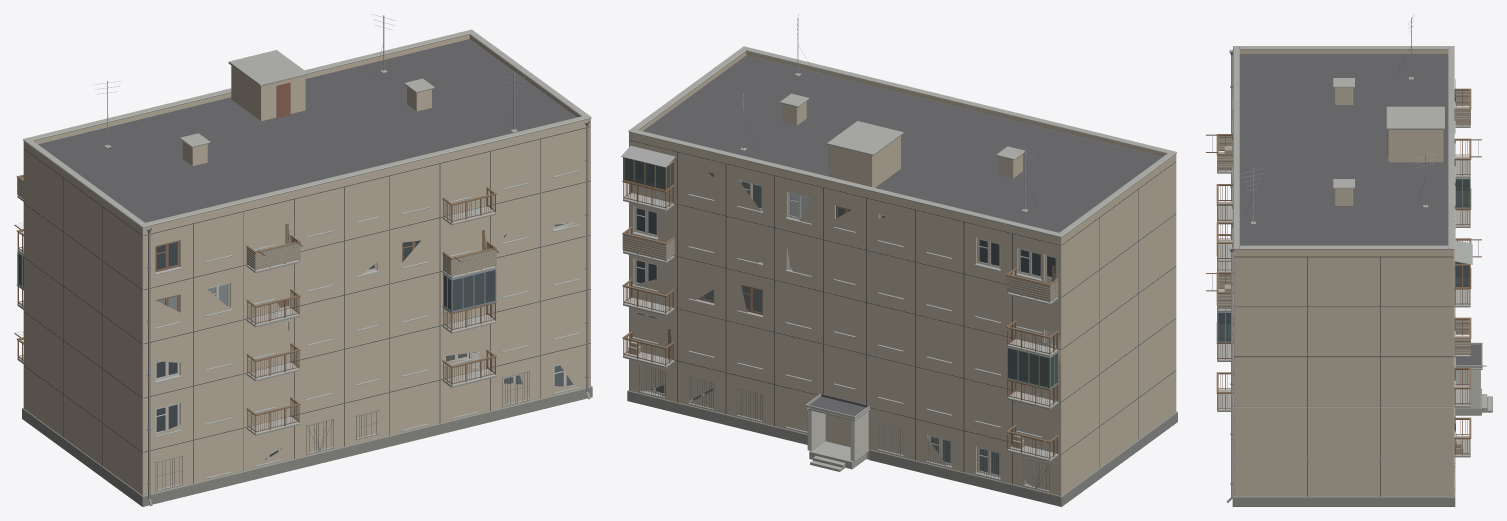
Rendered from Khrushchevka_B (4).fbx.
3 renders of one model, left to right at view 1: azimuth 30°, elevation 25°; view 2: azimuth 150°, elevation 25°; view 3: azimuth 270°, elevation 25°, orthographic. The views are drawn at different scales.
Visible parts, largest first — view 1: Khrushchevka_B_Walls, Khrushchevka_B_Roof, Khrushchevka_B_Balconies, Khrushchevka_B_Windows, Khrushchevka_B_Drainpipes; view 2: Khrushchevka_B_Walls, Khrushchevka_B_Roof, Khrushchevka_B_Balconies, Khrushchevka_B_Windows, Khrushchevka_B_Entrance; view 3: Khrushchevka_B_Walls, Khrushchevka_B_Roof, Khrushchevka_B_Balconies, Khrushchevka_B_Entrance, Khrushchevka_B_Drainpipes, Khrushchevka_B_Windows.
Part boxes in pixels (bbox=[...]): Khrushchevka_B_Walls: bbox=[22, 118, 592, 506]; Khrushchevka_B_Roof: bbox=[23, 14, 591, 227]; Khrushchevka_B_Balconies: bbox=[14, 174, 499, 435]; Khrushchevka_B_Windows: bbox=[154, 170, 579, 491]; Khrushchevka_B_Drainpipes: bbox=[146, 120, 590, 506]; Khrushchevka_B_Walls: bbox=[627, 132, 1177, 506]; Khrushchevka_B_Roof: bbox=[628, 14, 1176, 237]; Khrushchevka_B_Balconies: bbox=[621, 145, 1058, 461]; Khrushchevka_B_Windows: bbox=[632, 172, 1056, 491]; Khrushchevka_B_Entrance: bbox=[805, 394, 869, 471]; Khrushchevka_B_Walls: bbox=[1232, 249, 1455, 506]; Khrushchevka_B_Roof: bbox=[1233, 14, 1454, 249]; Khrushchevka_B_Balconies: bbox=[1206, 79, 1481, 457]; Khrushchevka_B_Entrance: bbox=[1454, 342, 1492, 415]; Khrushchevka_B_Drainpipes: bbox=[1226, 50, 1233, 502]; Khrushchevka_B_Windows: bbox=[1232, 98, 1455, 489].
Bounding box in the file's own units: 26.12 × 18.88 × 15.6.
